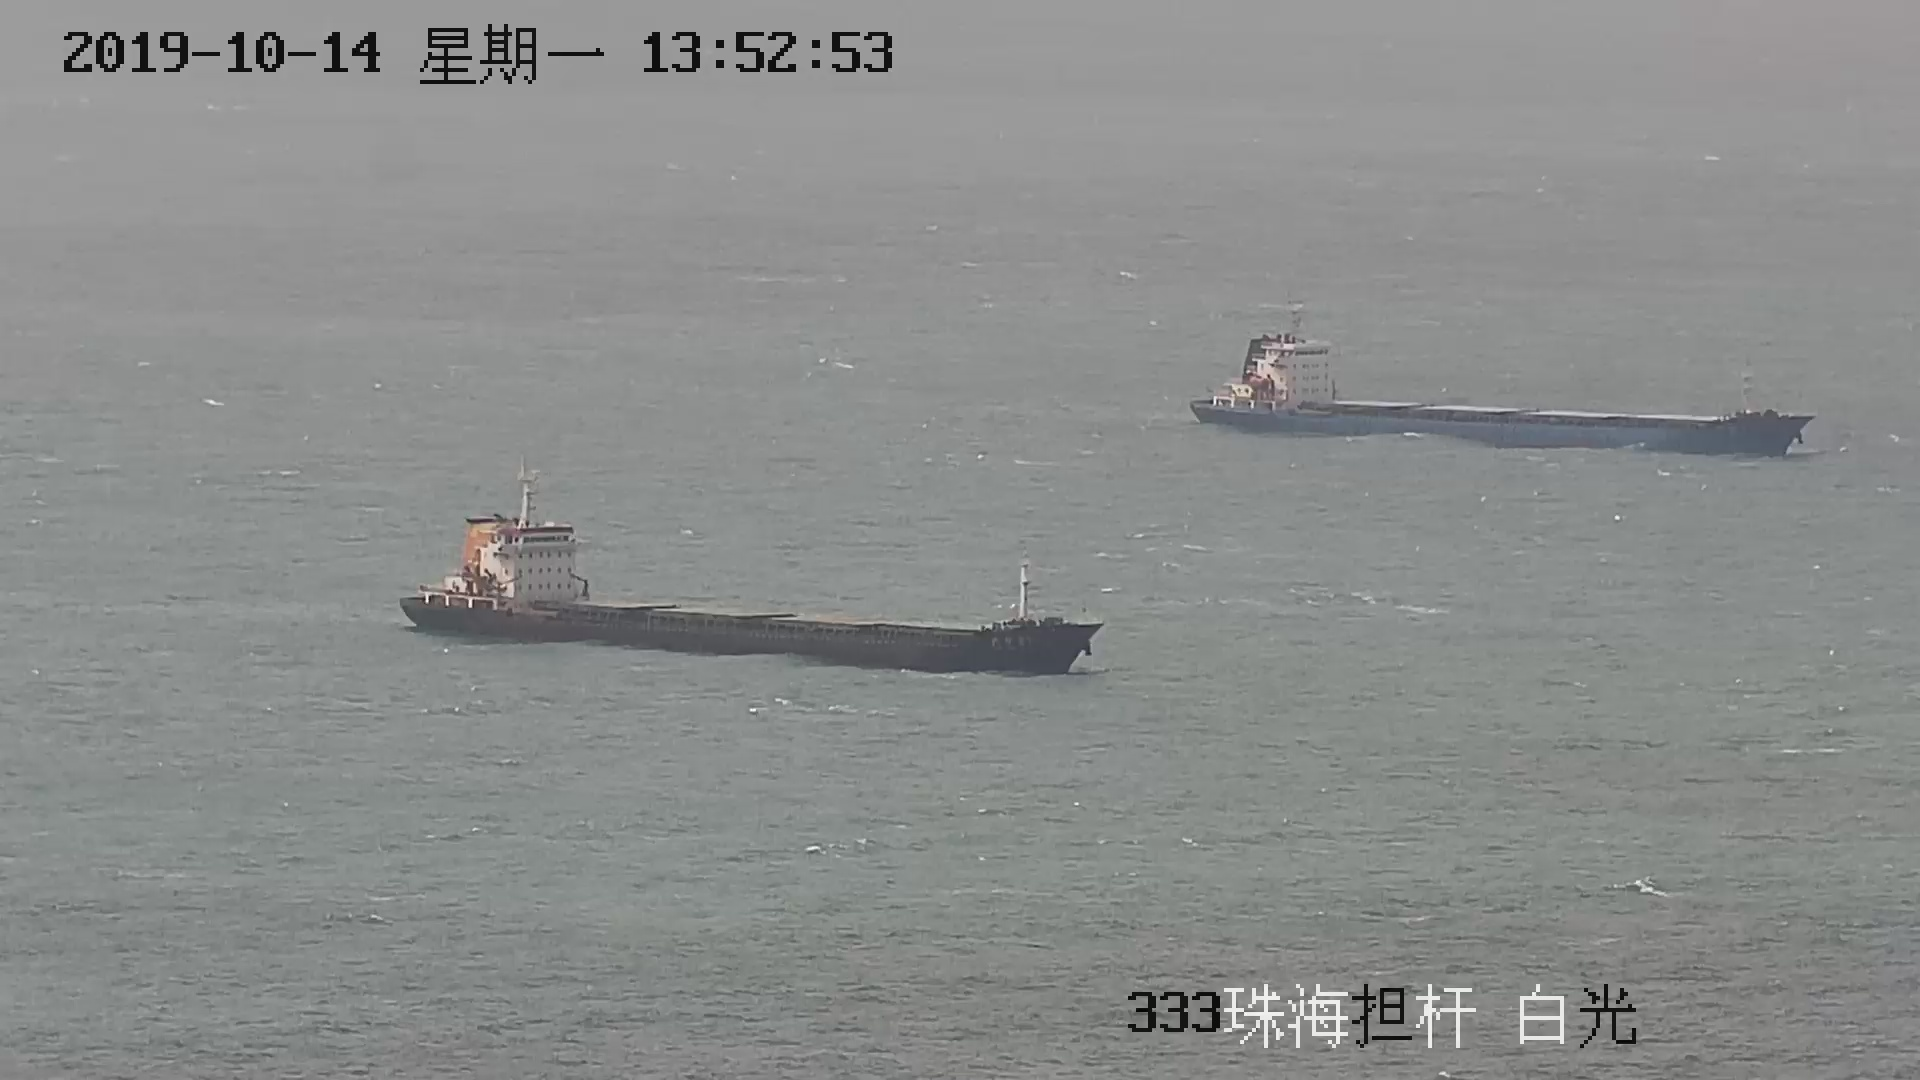ship: (397, 427, 1105, 675), (1185, 301, 1817, 462)
